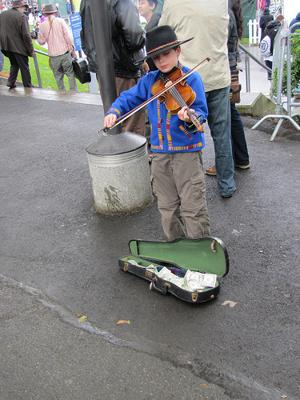person: (104, 28, 211, 241)
